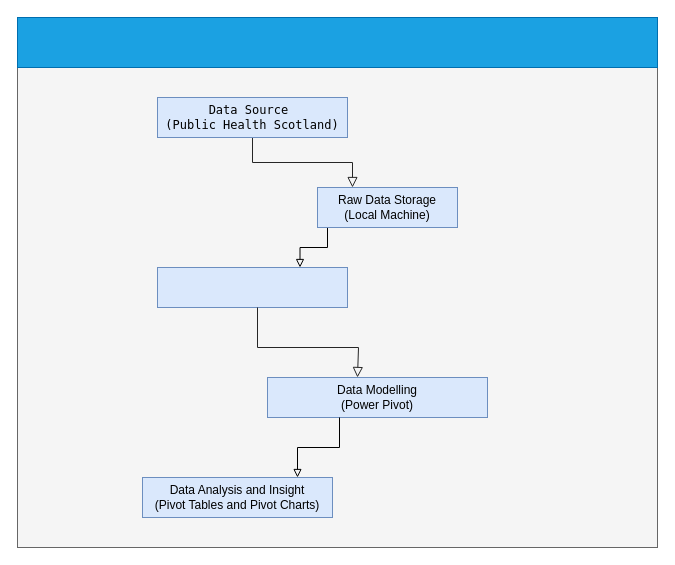
Some shapes in this 675 by 565 pixel diagram are drawn without their labels. The shapes that lost their labels are listed below. From the top down, each one's box as (x1, y1, x2, y2) in pixels, then its label:
(16, 16, 658, 68): Analysis of 61-day Cancer Waiting Time of Public Health Scotland
(156, 266, 348, 308): Data Cleaning and Transformation (Power Query Editor)
